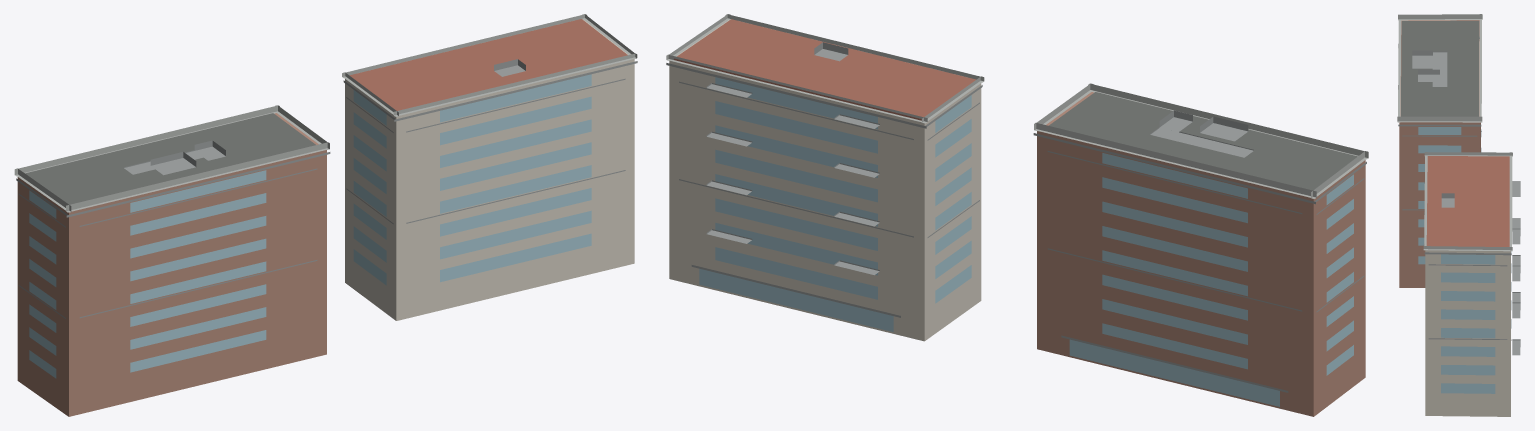
Rendered from tile-m002-p003.glb.
The picture shows the model from 3 angles, left to right: view 1: azimuth 30°, elevation 25°; view 2: azimuth 150°, elevation 25°; view 3: azimuth 270°, elevation 25°; orthographic projection. The views are drawn at different scales.
Visible parts, largest first — view 1: building-0379-mesh-0, building-0430-mesh-6, building-0430-mesh-7, building-0379-mesh-1, building-0430-mesh-10, building-0379-mesh-3, building-0379-mesh-4, building-0430-mesh-11, building-0379-mesh-2, building-0430-mesh-8, building-0379-mesh-5; view 2: building-0379-mesh-0, building-0430-mesh-6, building-0430-mesh-7, building-0379-mesh-1, building-0430-mesh-10, building-0379-mesh-3, building-0379-mesh-4, building-0430-mesh-11, building-0379-mesh-2, building-0430-mesh-8, building-0430-mesh-9, building-0379-mesh-5; view 3: building-0430-mesh-6, building-0430-mesh-10, building-0379-mesh-3, building-0379-mesh-0, building-0430-mesh-7, building-0379-mesh-4, building-0430-mesh-11, building-0379-mesh-5, building-0379-mesh-1, building-0430-mesh-9, building-0430-mesh-8, building-0379-mesh-2 (+1 smaller).
Boxes of the visible parts, x1,y1,x2,y2 form: building-0379-mesh-0: (17,113,326,416); building-0430-mesh-6: (345,20,634,320); building-0430-mesh-7: (353,74,591,285); building-0379-mesh-1: (29,170,266,378); building-0430-mesh-10: (349,19,627,110); building-0379-mesh-3: (25,113,315,204); building-0379-mesh-4: (14,105,329,212); building-0430-mesh-11: (342,14,637,116); building-0379-mesh-2: (16,152,330,318); building-0430-mesh-8: (343,61,637,224); building-0379-mesh-5: (124,140,225,175); building-0379-mesh-0: (1037,92,1365,416); building-0430-mesh-6: (669,20,981,341); building-0430-mesh-7: (699,77,971,331); building-0379-mesh-1: (1069,153,1353,406); building-0430-mesh-10: (674,19,975,120); building-0379-mesh-3: (1049,92,1357,190); building-0379-mesh-4: (1034,83,1368,198); building-0430-mesh-11: (666,14,984,123); building-0379-mesh-2: (1033,133,1366,392); building-0430-mesh-8: (666,63,982,317); building-0430-mesh-9: (706,83,879,275); building-0379-mesh-5: (1150,110,1253,157); building-0430-mesh-6: (1425,250,1510,416); building-0430-mesh-10: (1426,156,1509,246); building-0379-mesh-3: (1401,20,1479,116); building-0379-mesh-0: (1399,20,1480,287); building-0430-mesh-7: (1441,251,1511,393); building-0379-mesh-4: (1397,14,1482,122); building-0430-mesh-11: (1423,152,1512,251); building-0379-mesh-5: (1412,50,1447,86); building-0379-mesh-1: (1418,127,1481,264); building-0430-mesh-9: (1512,181,1520,355); building-0430-mesh-8: (1424,252,1511,340); building-0379-mesh-2: (1398,124,1481,210).
Size of the model in its own units: 90.69 by 31.9 by 20.26.
